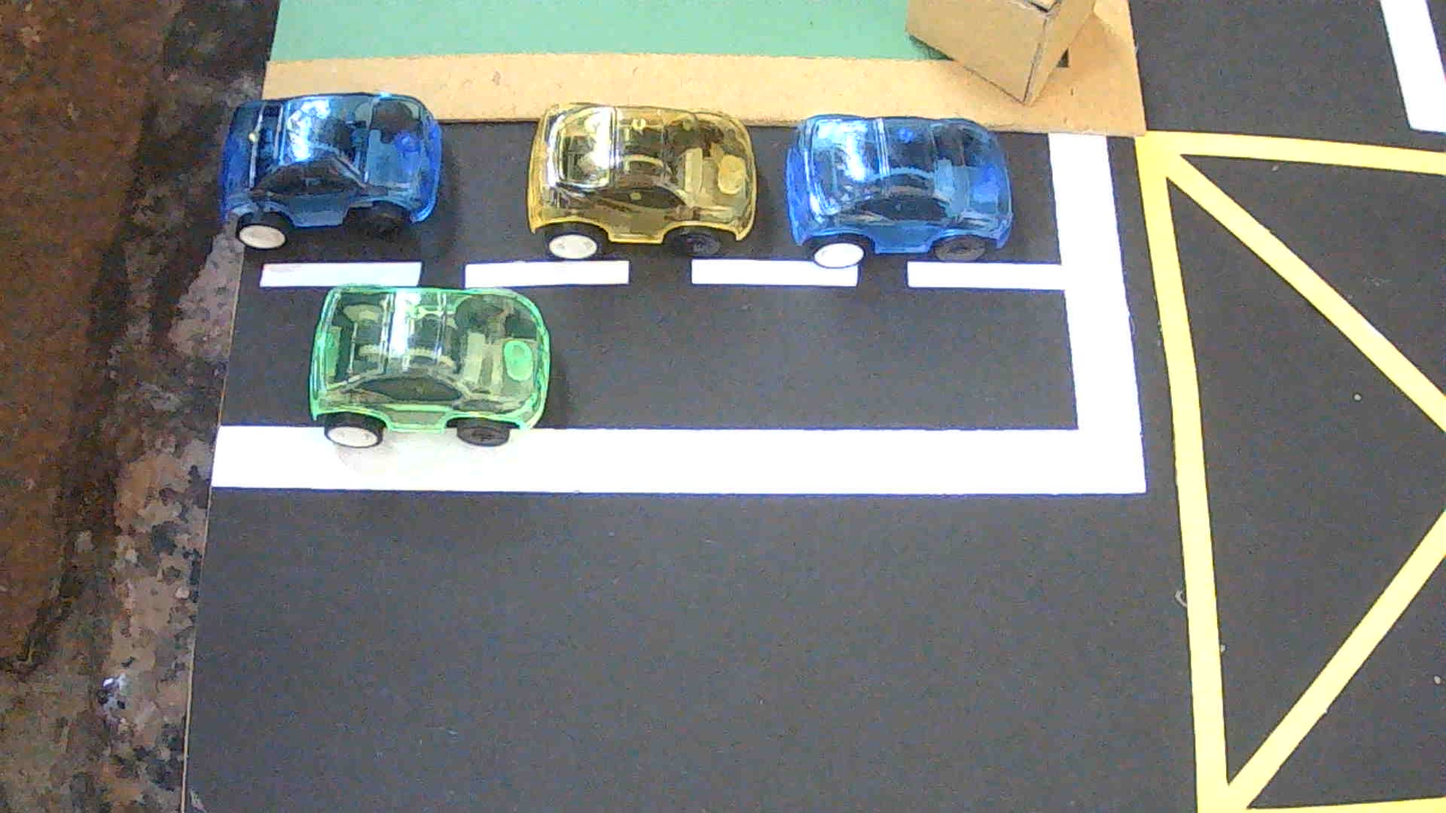Mobil biru: (218, 92, 442, 249), (786, 114, 1013, 267)
Mobil hijau: (308, 285, 550, 448)
Mobil kuning: (526, 102, 758, 258)
